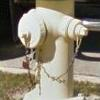Hydrant: (10, 2, 91, 97)
